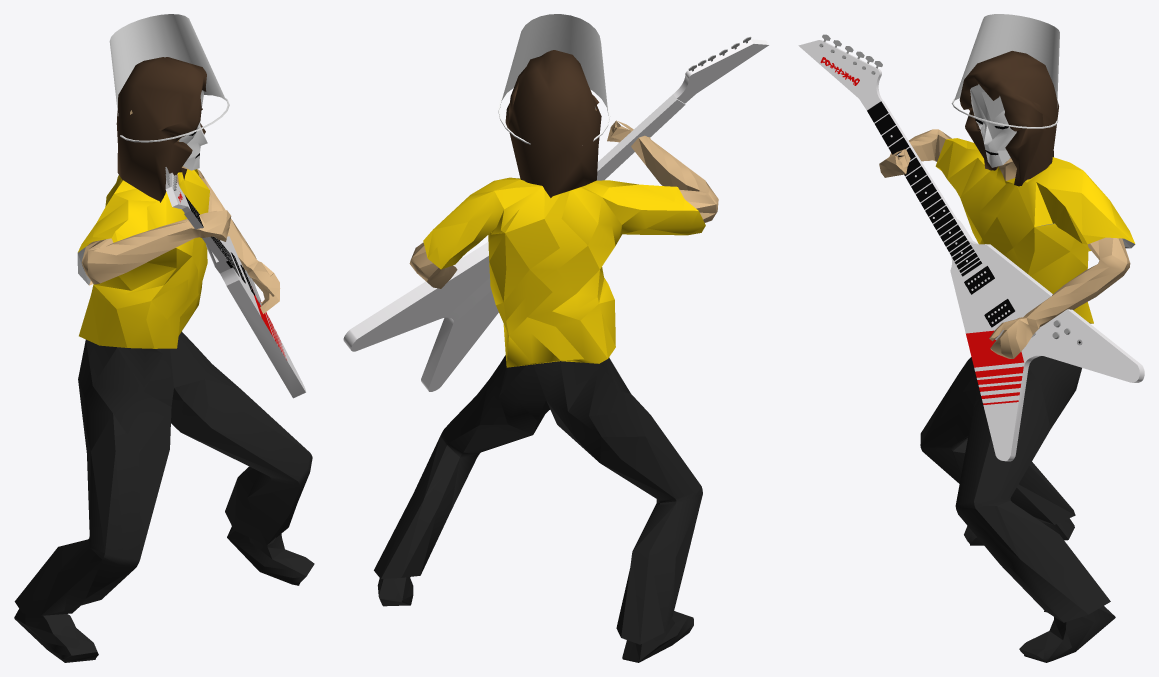
Rendered from bucketmodel.gltf.
3 views of the same model, side by side, from view 1: azimuth 30°, elevation 25°; view 2: azimuth 150°, elevation 25°; view 3: azimuth 270°, elevation 25° (orthographic). The views are drawn at different scales.
Bounding box in the file's own units: 0.8955 × 1.78 × 0.9819.
